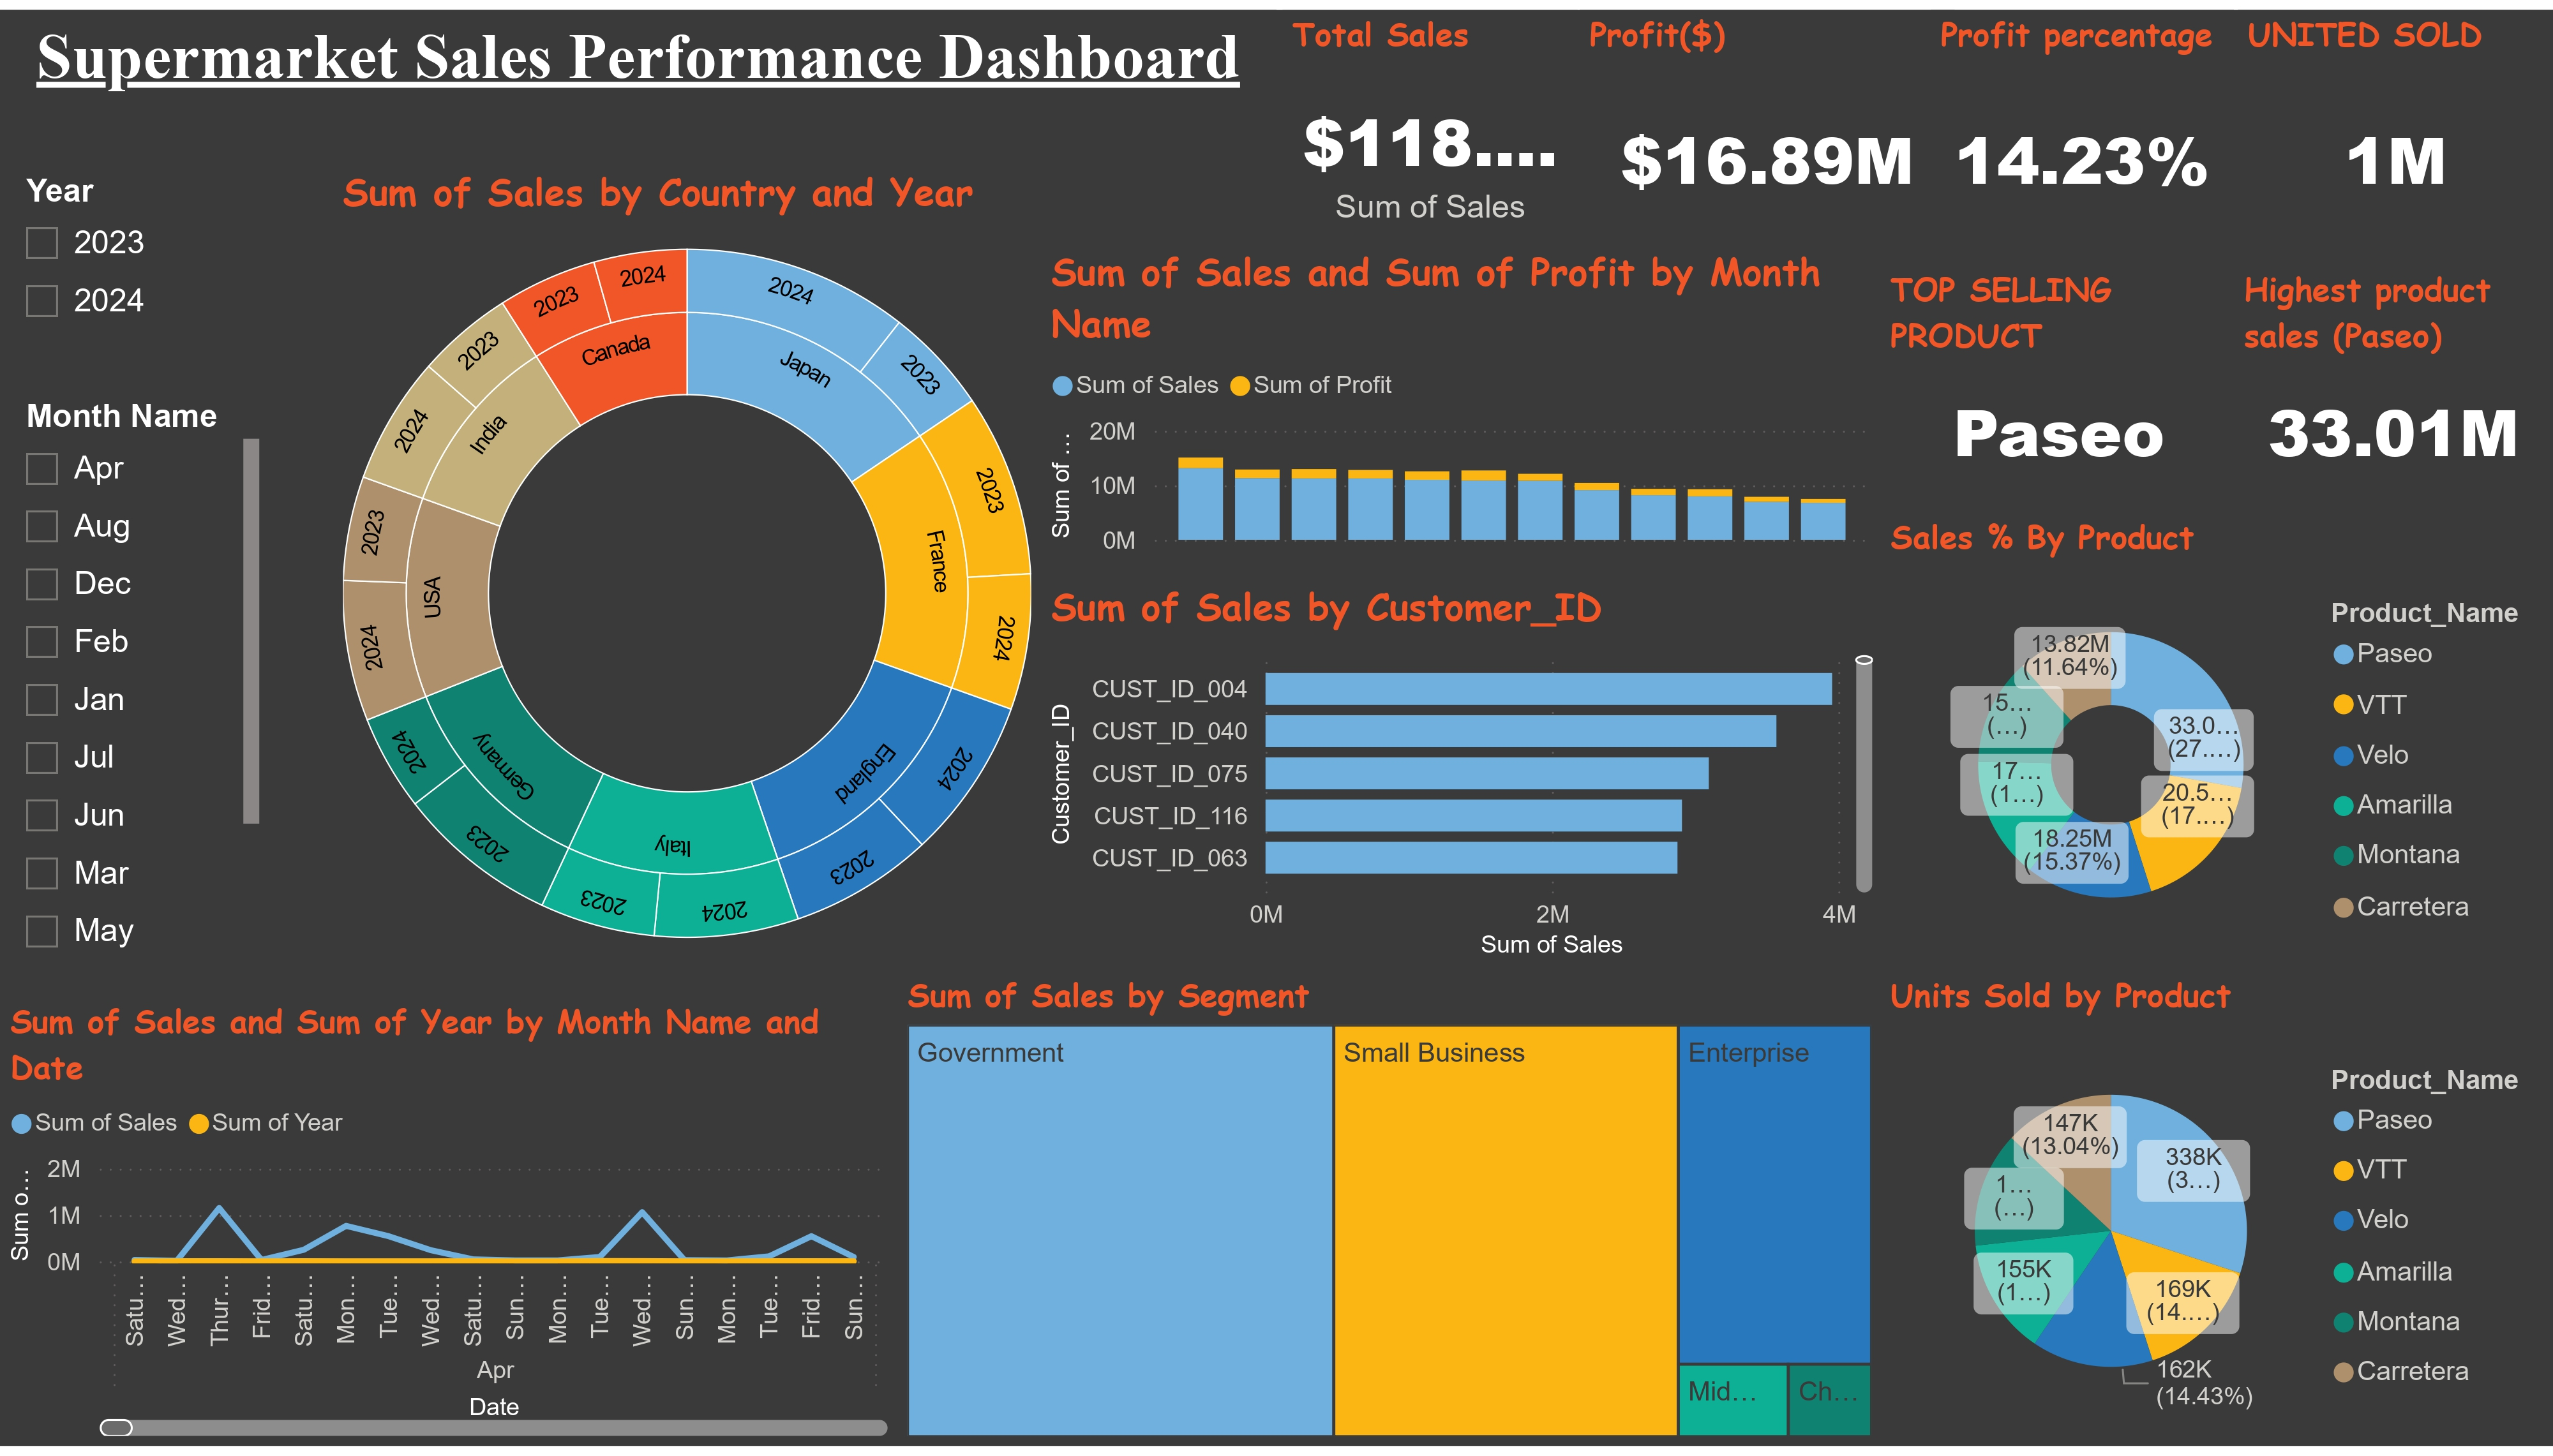

The page's visual inventory and layout, read from the dashboard file:
{"tool":"powerbi","page":{"name":"Page 1","canvas":[1280,720],"ordinal":0},"visuals":[{"type":"card","title":"Total Sales","fields":{"Values":["Sum(Sales Data.Sales)"]},"box":[643.3,0,148.3,128.3],"z":0},{"type":"card","title":"Profit($)","fields":{"Values":["Sum(Sales Data.Profit)"]},"box":[791.7,0,188.3,128.3],"z":1000},{"type":"card","title":"Profit  percentage","fields":{"Values":["Sales Data.Sum of Profit divided by Sum of Sales"]},"box":[968.3,0,151.7,128.3],"z":2000},{"type":"card","title":"UNITED SOLD","fields":{"Values":["Sum(Sales Data.Units Sold)"]},"box":[1121.7,0,158.3,128.3],"z":3000},{"type":"card","title":"TOP SELLING PRODUCT","fields":{"Values":["Min(Sales Data.Product_Name)"]},"box":[943.3,128.3,178.3,123.3],"z":4000},{"type":"card","title":"Highest product sales (Paseo)","fields":{"Values":["Sum(Sales Data.Sales)"]},"box":[1120,128.3,160,123.3],"z":5000},{"type":"donutChart","title":"Sales % By Product","fields":{"Y":["Sum(Sales Data.Sales)"],"Category":["Sales Data.Product_Name"]},"box":[943.3,251.7,336.7,230],"z":6000},{"type":"pieChart","title":" Units Sold by Product","fields":{"Category":["Sales Data.Product_Name"],"Y":["Sum(Sales Data.Units Sold)"]},"box":[943.3,481.7,336.7,238.3],"z":7000},{"type":"treemap","fields":{"Group":["Sales Data.Segment"],"Values":["Sum(Sales Data.Sales)"]},"box":[450,481.7,493.3,238.3],"z":8000},{"type":"lineChart","fields":{"Category":["Sales Data.Month Name","Sales Data.Date Hierarchy.Date"],"Y":["Sum(Sales Data.Sales)","Sum(Sales Data.Year)"]},"box":[0,495,450,225],"z":9000},{"type":"slicer","fields":{"Values":["Sales Data.Year"]},"box":[0,76.7,148.3,113.3],"z":10000},{"type":"slicer","fields":{"Values":["Sales Data.Month Name"]},"box":[0,190,135,290],"z":11000},{"type":"clusteredBarChart","fields":{"Category":["Sales Data.Customer_ID"],"Y":["Sum(Sales Data.Sales)"]},"box":[521.7,285,421.7,195],"z":12000},{"type":"Sunburst1445472000808","fields":{"Values":["Sum(Sales Data.Sales)"],"Nodes":["Sales Data.Country","Sales Data.Year"]},"box":[166.7,76.7,355,405],"z":13000},{"type":"textbox","box":[0,0,640,76.7],"z":14000},{"type":"columnChart","fields":{"Category":["Sales Data.Month Name"],"Y":["Sum(Sales Data.Sales)","Sum(Sales Data.Profit)"]},"box":[521.7,116.7,420,161.7],"z":14001}]}

Visuals, with their boxes in screenshot pixels (x1, y1, x2, y2), scaled from the page's 1280x720 canvas onto the 2553x1456 screenshot:
"Total Sales" card: x1=1283 y1=0 x2=1579 y2=260
"Profit($)" card: x1=1579 y1=0 x2=1954 y2=260
"Profit  percentage" card: x1=1931 y1=0 x2=2234 y2=260
"UNITED SOLD" card: x1=2237 y1=0 x2=2552 y2=260
"TOP SELLING PRODUCT" card: x1=1882 y1=260 x2=2237 y2=509
"Highest product sales (Paseo)" card: x1=2234 y1=260 x2=2552 y2=509
"Sales % By Product" donutChart: x1=1882 y1=509 x2=2552 y2=974
" Units Sold by Product" pieChart: x1=1882 y1=974 x2=2552 y2=1455
treemap - Sales Data.Segment x Sum(Sales Data.Sales): x1=897 y1=974 x2=1882 y2=1455
lineChart - Sales Data.Month Name x Sales Data.Date Hierarchy.Date: x1=0 y1=1001 x2=897 y2=1455
slicer - Sales Data.Year: x1=0 y1=155 x2=296 y2=384
slicer - Sales Data.Month Name: x1=0 y1=384 x2=269 y2=970
clusteredBarChart - Sales Data.Customer_ID x Sum(Sales Data.Sales): x1=1040 y1=576 x2=1882 y2=970
Sunburst1445472000808 - Sum(Sales Data.Sales) x Sales Data.Country: x1=333 y1=155 x2=1040 y2=974
textbox: x1=0 y1=0 x2=1276 y2=155
columnChart - Sales Data.Month Name x Sum(Sales Data.Sales): x1=1040 y1=236 x2=1878 y2=563
